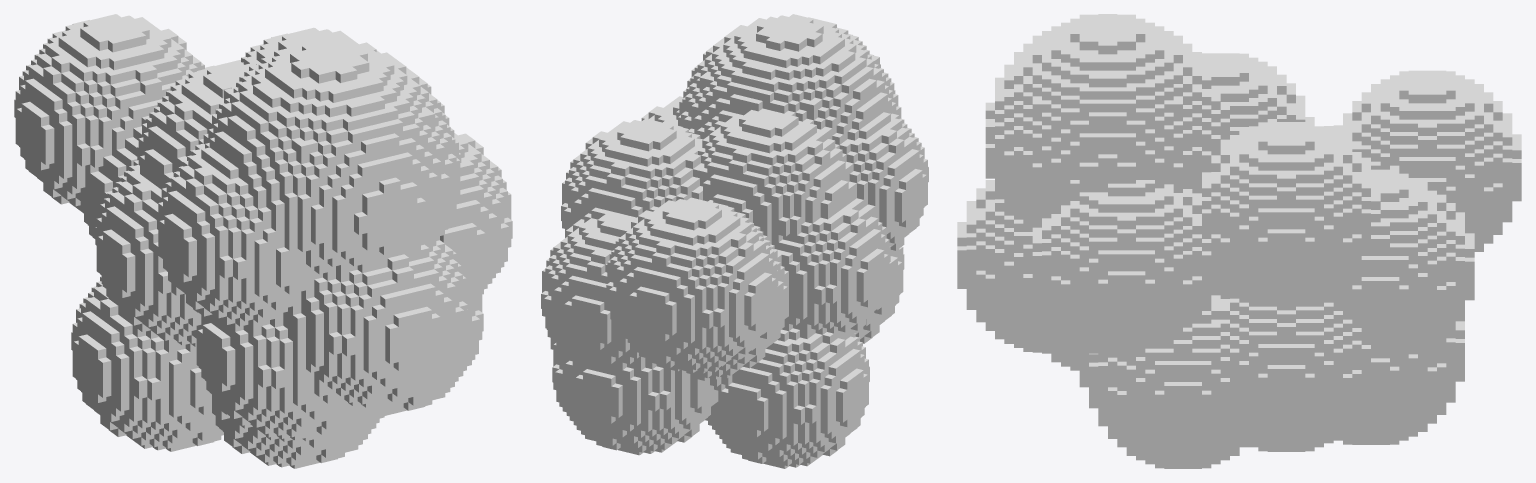
The model's file is Cloud1.obj.
3 renders of one model, left to right at view 1: azimuth 30°, elevation 25°; view 2: azimuth 150°, elevation 25°; view 3: azimuth 270°, elevation 25°, orthographic. The views are drawn at different scales.
Visible parts, largest first — view 1: Cloud1; view 2: Cloud1; view 3: Cloud1.
Part boxes in pixels (x1,y1,x2,y2): Cloud1: [14, 14, 512, 468]; Cloud1: [541, 14, 928, 468]; Cloud1: [957, 14, 1521, 468].
Size of the model in its own units: 40 by 48 by 60.
Materials: 1 (1 with a texture image).
